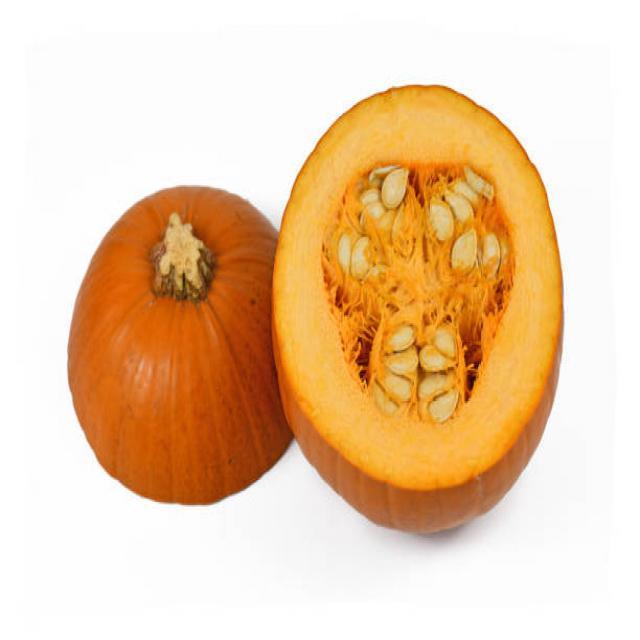pumpkin: (273, 81, 562, 533), (61, 165, 270, 514)
